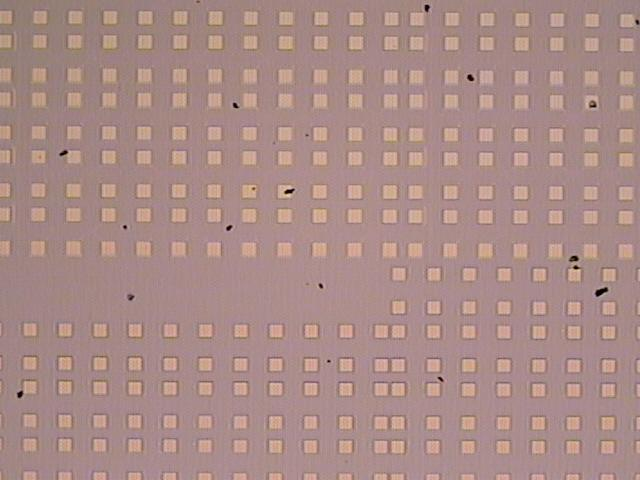PO CONTAMINATION: (32, 1, 640, 398)
